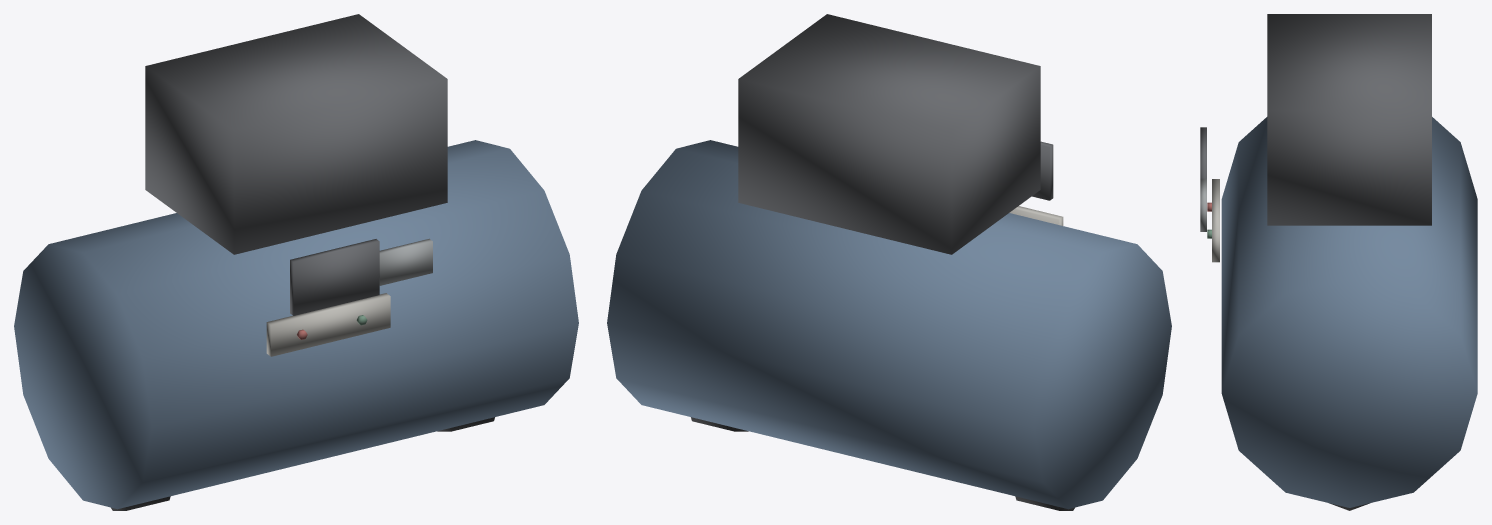
Rendered from air_compressor__weathered.glb.
The picture shows the model from 3 angles, left to right: view 1: azimuth 30°, elevation 25°; view 2: azimuth 150°, elevation 25°; view 3: azimuth 270°, elevation 25°; orthographic projection. The views are drawn at different scales.
Parts seen in each view (by area): view 1: world; view 2: world; view 3: world.
Part boxes in pixels (x1=…): world: x1=14, y1=14, x2=578, y2=510; world: x1=607, y1=14, x2=1171, y2=510; world: x1=1200, y1=14, x2=1477, y2=510.
Bounding box in the file's own units: 1 × 0.8811 × 0.6067.
